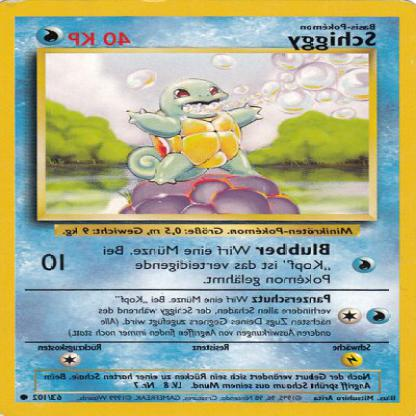Squirtle: (120, 73, 264, 189)
